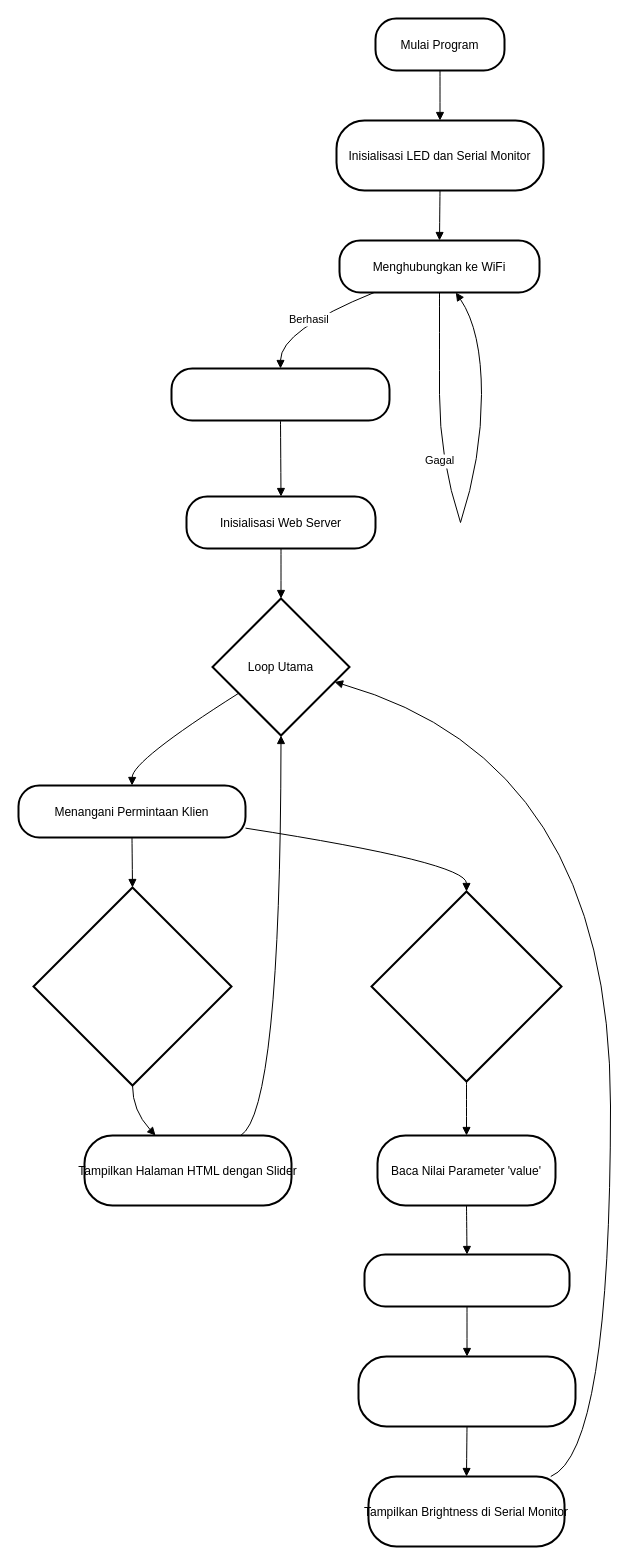
Image size: 628x1564. Some labels were removed from this diagram. Here are the shapes that lost their labels. From the top down, the centre of each, then its label:
point 280,394: Tampilkan IP Address Lokal
point 132,986: Rute Halaman Utama
point 466,986: Rute /setBrightness
point 466,1280: Konversi Nilai ke Integer
point 466,1391: Atur PWM LED Sesuai Nilai Slider
